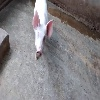heo: (30, 8, 55, 58)
